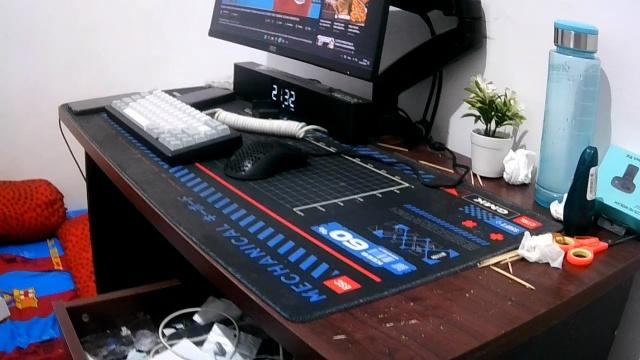Meja: (51, 80, 639, 359)
